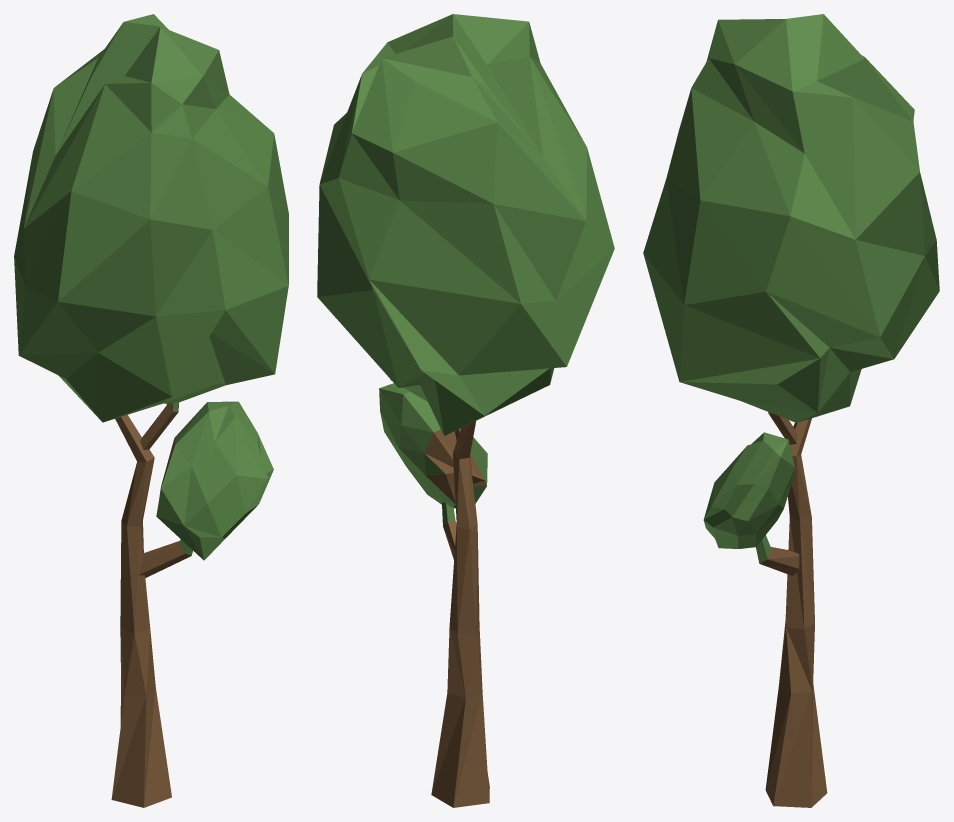
Rendered from tree3d-147.glb.
3 renders of one model, left to right at view 1: azimuth 30°, elevation 25°; view 2: azimuth 150°, elevation 25°; view 3: azimuth 270°, elevation 25°, orthographic. The views are drawn at different scales.
Visible parts, largest first — view 1: tree3d-147; view 2: tree3d-147; view 3: tree3d-147.
Part boxes in pixels (x1,y1,x2,y2): tree3d-147: (14, 14, 288, 807); tree3d-147: (317, 14, 614, 807); tree3d-147: (643, 14, 939, 807).
Size of the model in its own units: 0.3451 by 1 by 0.3426.
